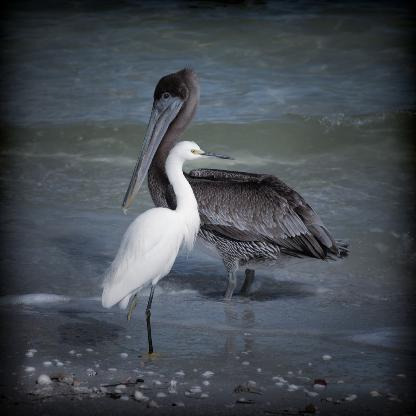Bird: (97, 140, 235, 362)
